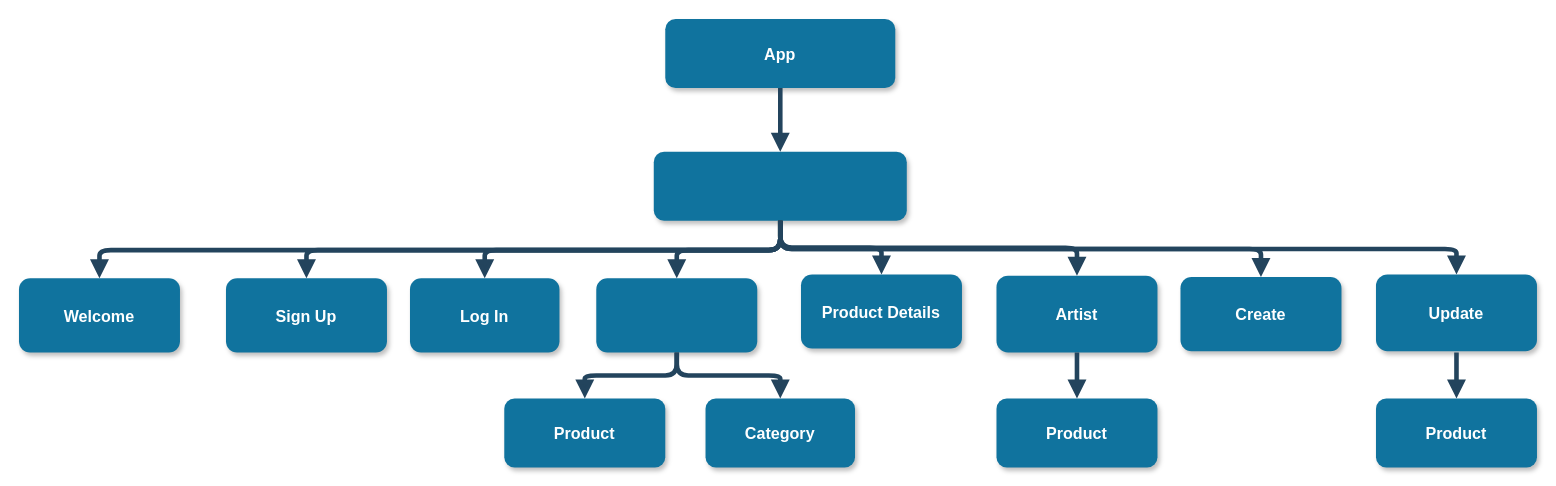
This 1556x486 diagram has some shape labels left out. Here are the shapes that lost their labels. From the top down, the centre of each, then its label:
At [781,187]: "Layout".
At [677,316]: "Home".
